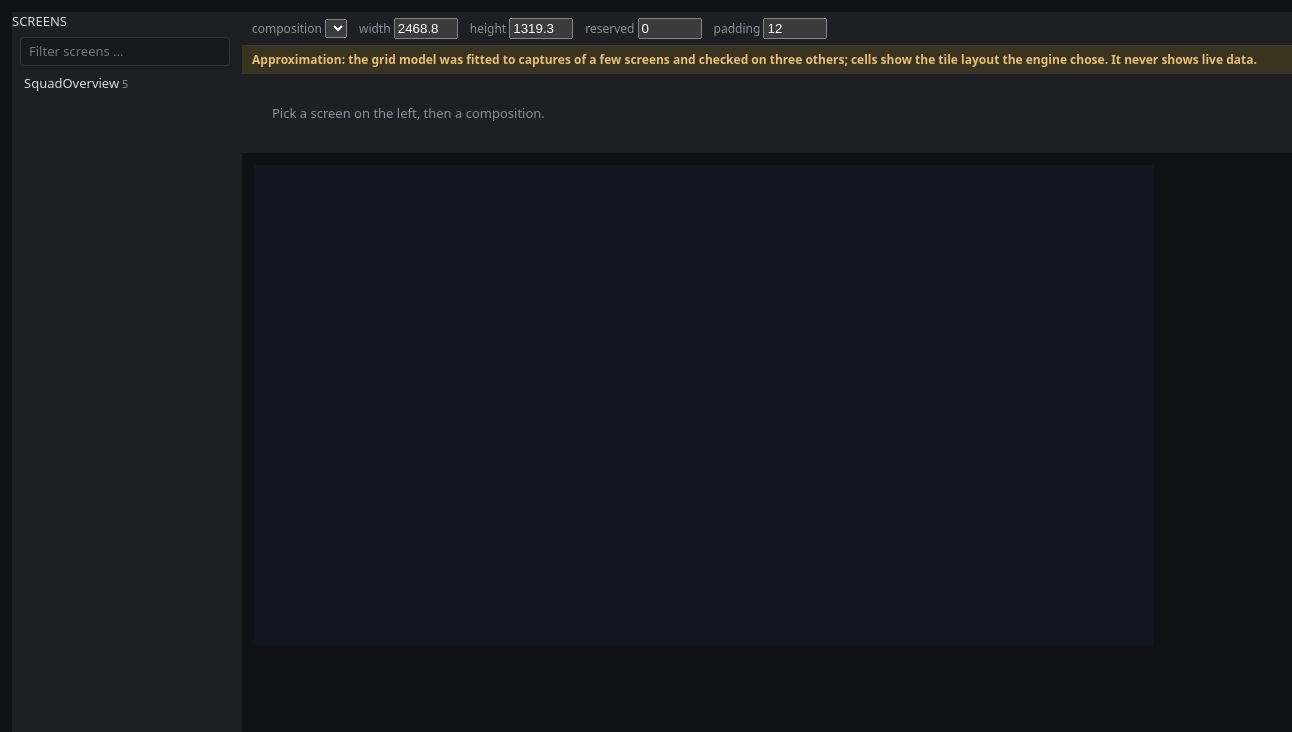
Scenario: screen view › lists screens, picks a composition and draws the cells with the tile layout the engine chose
Step 1. Click the list item "SquadOverview" → (76, 83), box top-left (24, 74), bottom-right (128, 92)
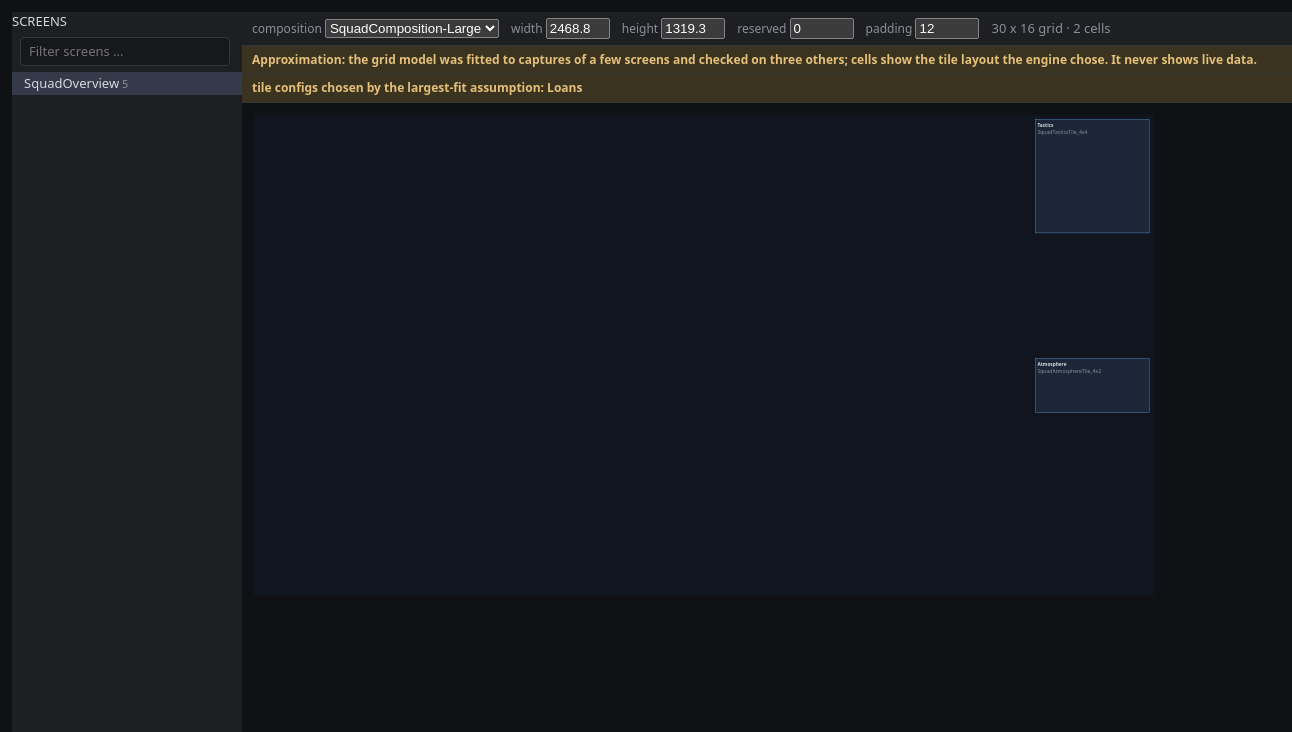
Check: the text "Approximation" is shown, box top-left (252, 51), bottom-right (1257, 68)
Check: the element showing "Atmosphere SquadAtmosphereTile_4x2" is shown, box top-left (1036, 358), bottom-right (1149, 412)
Check: the text "tile configs chosen by the largest-fit assumption: Loans" is shown, box top-left (242, 74), bottom-right (1291, 103)
